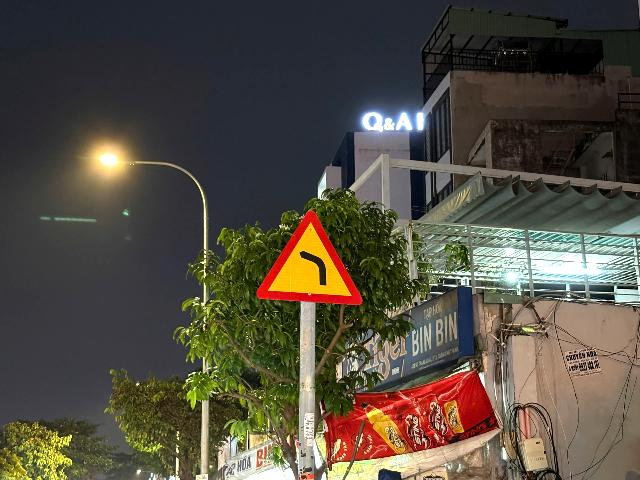cho-ngoat-nguy-hiem-ben-trai: (255, 209, 363, 306)
